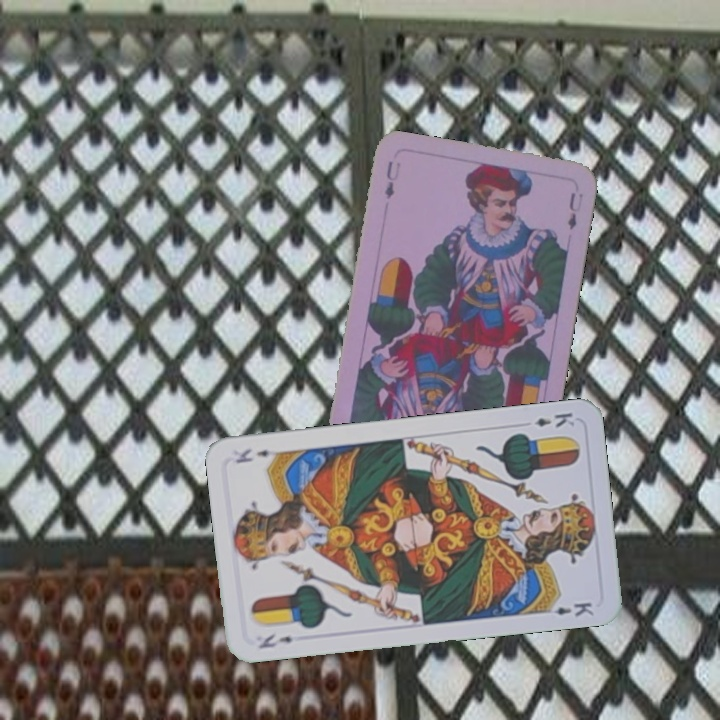EK: (531, 408, 577, 430), (255, 630, 296, 652)
EU: (380, 157, 404, 202)
